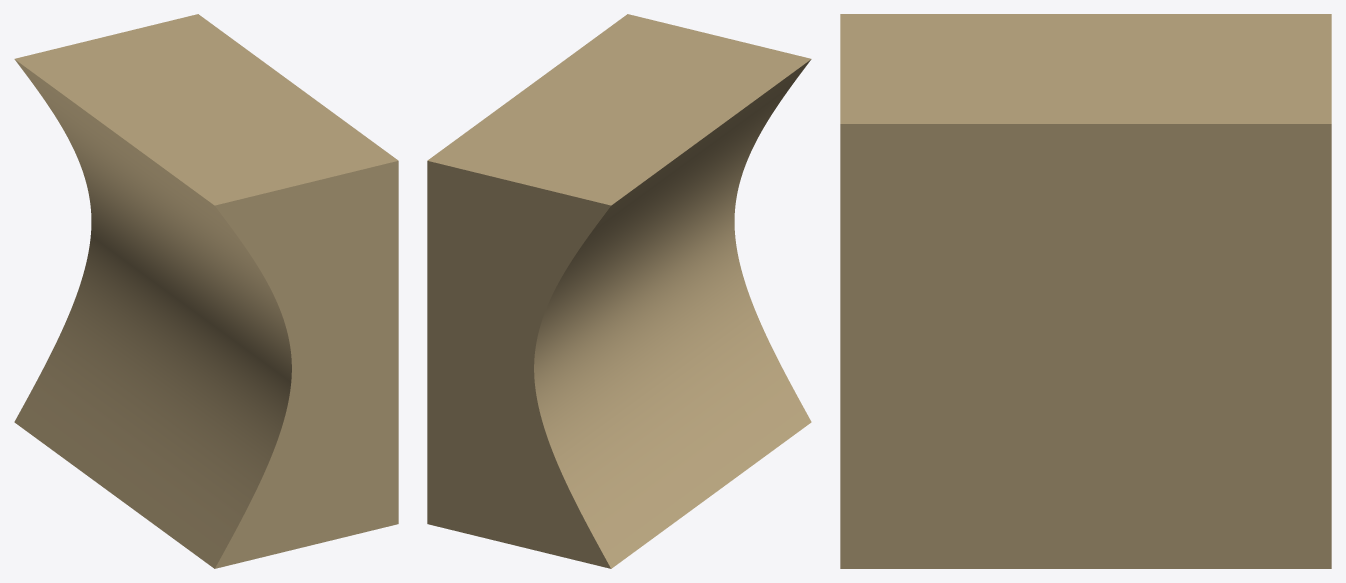
The model's file is 弯道w.FBX.
3 renders of one model, left to right at view 1: azimuth 30°, elevation 25°; view 2: azimuth 150°, elevation 25°; view 3: azimuth 270°, elevation 25°, orthographic. The views are drawn at different scales.
Parts seen in each view (by area): view 1: Box002; view 2: Box002; view 3: Box002.
Part boxes in pixels (x1,y1,x2,y2): Box002: (14,14,398,568); Box002: (427,14,811,568); Box002: (840,14,1331,568).
Bounding box in the file's own units: 50.97 × 96.15 × 96.15.
